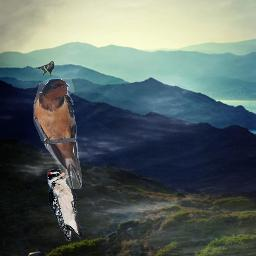Crow: (35, 61, 54, 76)
Swallow: (33, 78, 82, 189)
Woodpecker: (47, 169, 82, 241)
